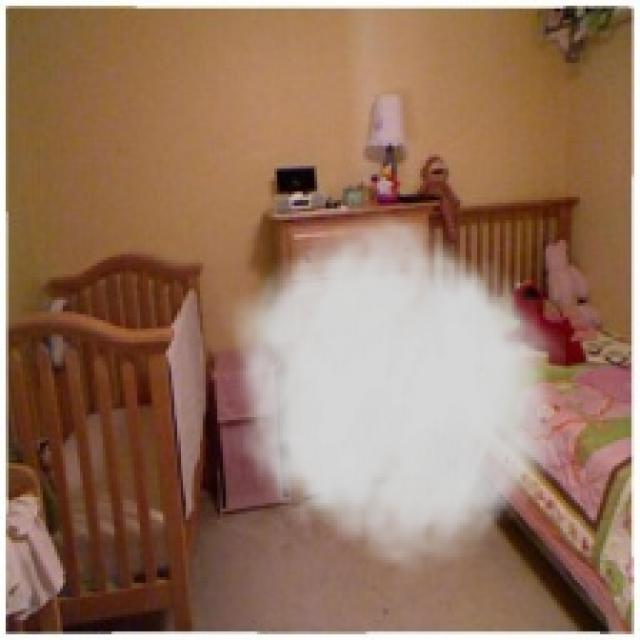smoke: (217, 200, 566, 583)
